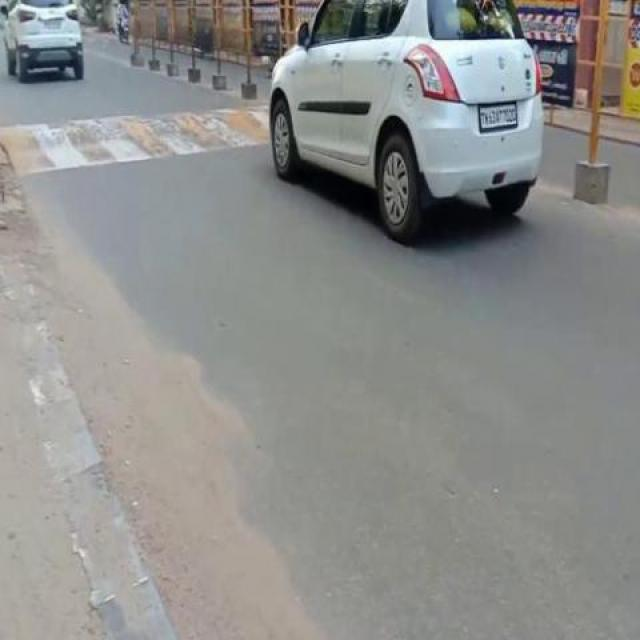Speed Bump: (0, 104, 271, 179)
